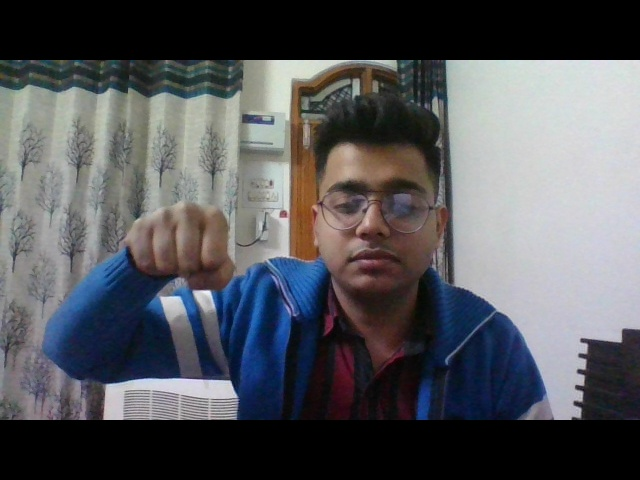Yes: (119, 196, 242, 289)
